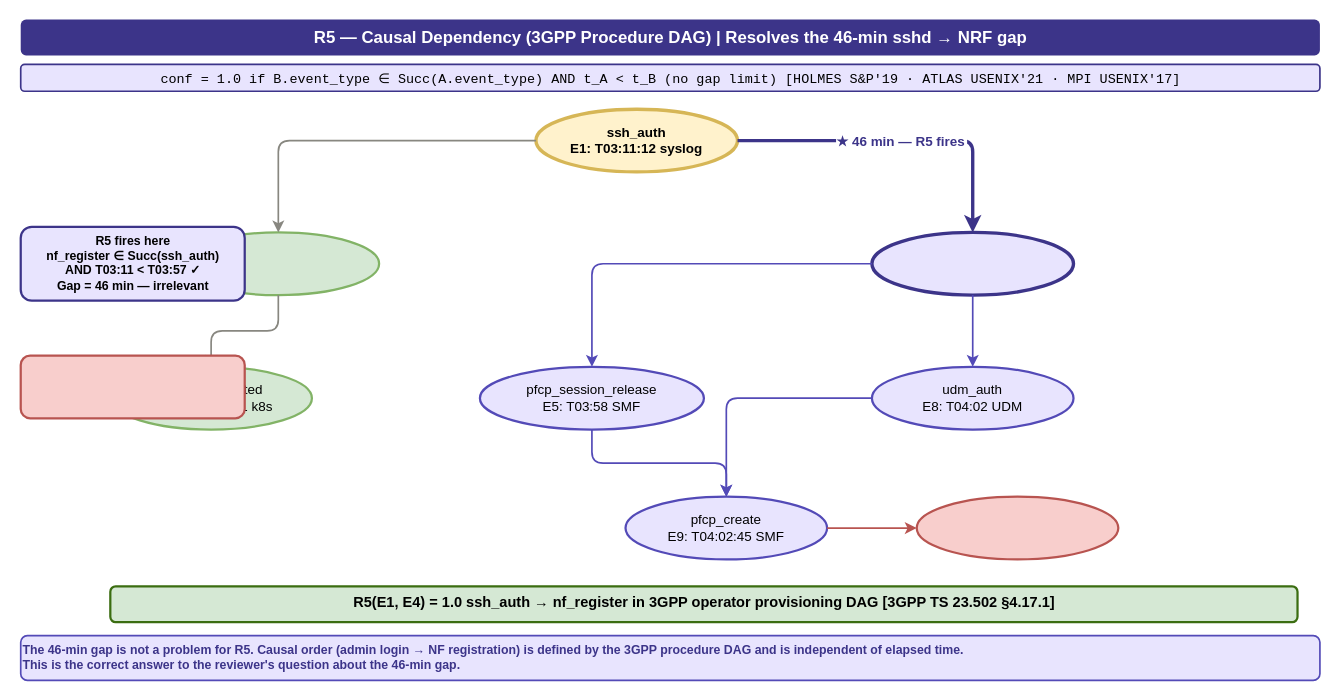
The diagram is 1340 pixels wide and 700 high, and some of its shapes have lost their labels. The shapes that lost their labels are listed below. From the top down, each one's centre as x and y in pixels, then its label:
At point 278,263: "k8s_pod_created E3: T03:52 k8s".
At point 972,263: "nf_register E4: T03:57 NRF".
At point 132,386: "R1 returns 0 here Gap = 2764 s ≫ W = 60 s R1 conf = 0.00".
At point 1017,527: "ng_setup E10: T04:02:46 AMF".
